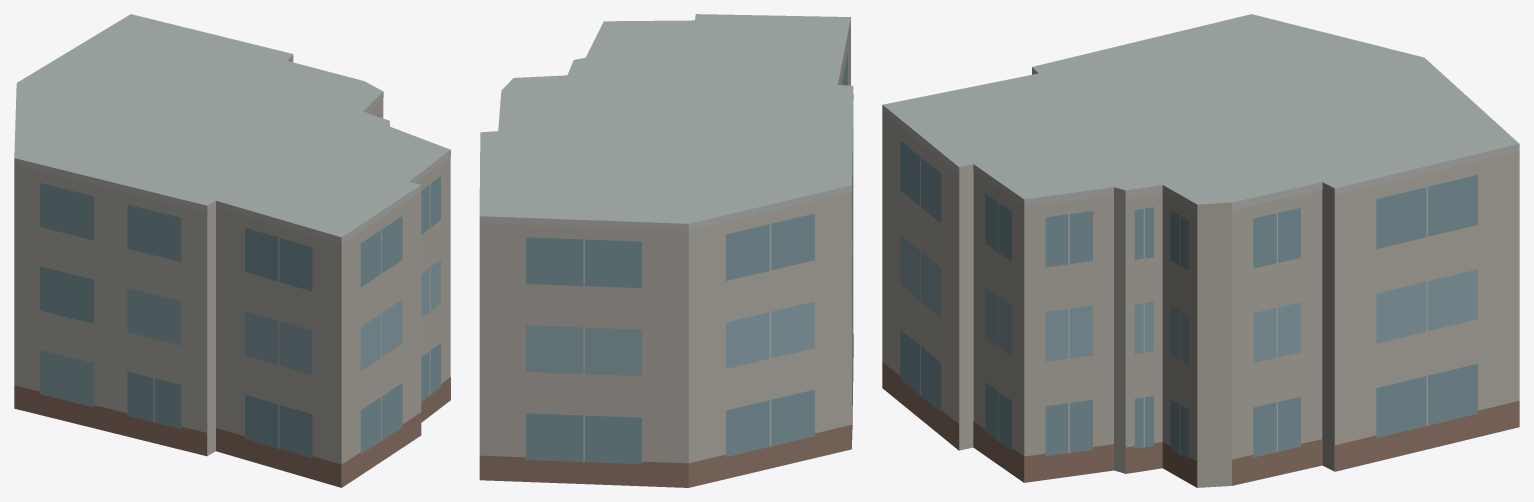
File: survey-upis-32601859.glb
3 renders of one model, left to right at view 1: azimuth 30°, elevation 25°; view 2: azimuth 150°, elevation 25°; view 3: azimuth 270°, elevation 25°, orthographic. The views are drawn at different scales.
Parts seen in each view (by area): view 1: survey-upis-32601859.tmp; view 2: survey-upis-32601859.tmp; view 3: survey-upis-32601859.tmp.
Boxes of the visible parts, left/top/right/bottom form: survey-upis-32601859.tmp: left=14, top=14, right=450, bottom=487; survey-upis-32601859.tmp: left=479, top=14, right=853, bottom=487; survey-upis-32601859.tmp: left=882, top=14, right=1519, bottom=487.
Bounding box in the file's own units: 13.2 × 9.15 × 18.65.
